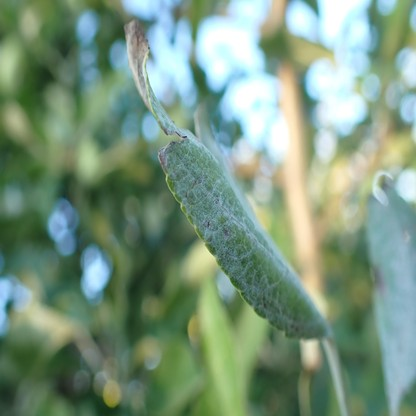powder: (124, 21, 331, 342)
